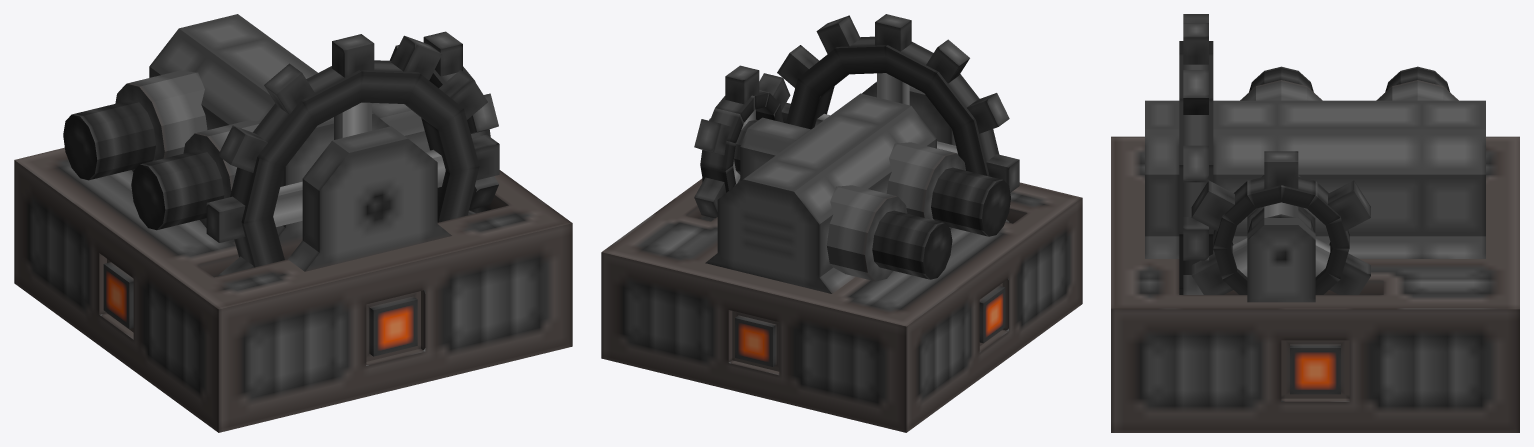
The model's file is heavy_stirling_engine.obj.
3 renders of one model, left to right at view 1: azimuth 30°, elevation 25°; view 2: azimuth 150°, elevation 25°; view 3: azimuth 270°, elevation 25°, orthographic. The views are drawn at different scales.
Parts seen in each view (by area): view 1: Base, Cog, Piston, CogSmall; view 2: Base, Cog, Piston, CogSmall; view 3: Base, CogSmall, Cog, Piston.
Part boxes in pixels (x1,y1,x2,y2): Base: (14,14,572,432); Cog: (206,34,499,276); Piston: (63,100,224,230); CogSmall: (390,31,498,210); Base: (601,81,1082,432); Cog: (777,14,1019,222); Piston: (872,167,1010,279); CogSmall: (694,65,790,218); Base: (1111,80,1519,432); CogSmall: (1191,151,1370,294); Cog: (1179,14,1213,294); Piston: (1249,66,1449,92).
Bounding box in the file's own units: 3 × 2.56 × 3.
